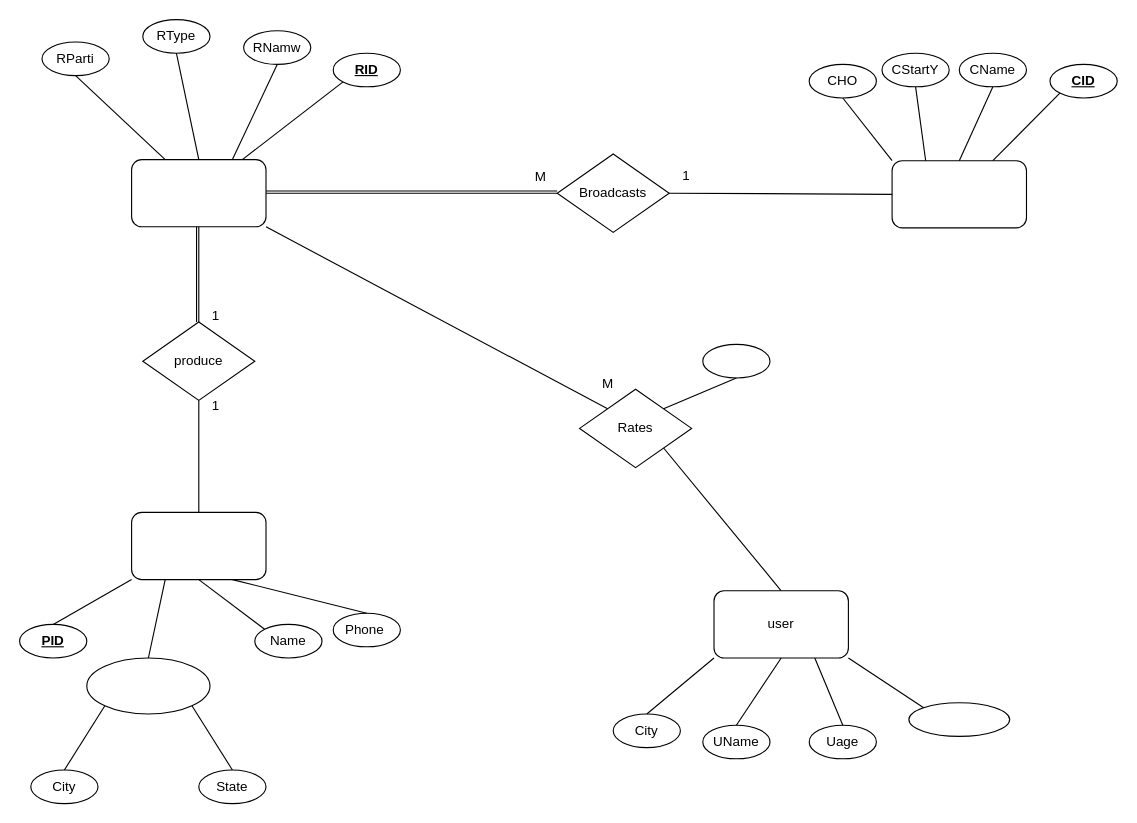
Some shapes in this 1137 by 823 pixel diagram are drawn without their labels. Each missing label, with the centre of its shape:
Adress: pixel 148 685
Channel: pixel 958 194
Producer: pixel 198 545
Rating: pixel 736 360
Reality show: pixel 198 192
UPSW: pixel 959 719
